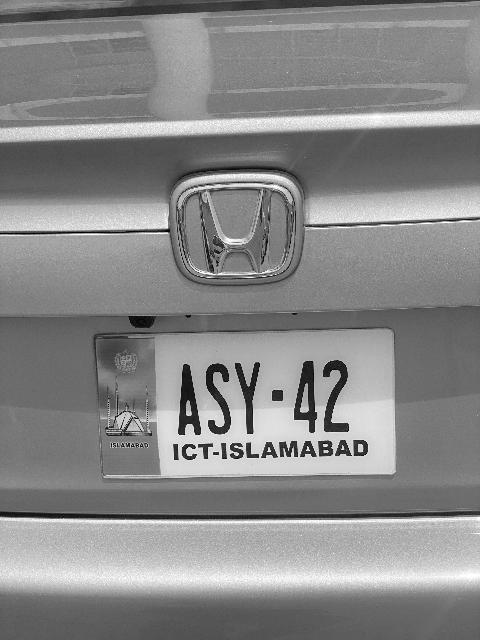Number: (172, 357, 357, 433)
